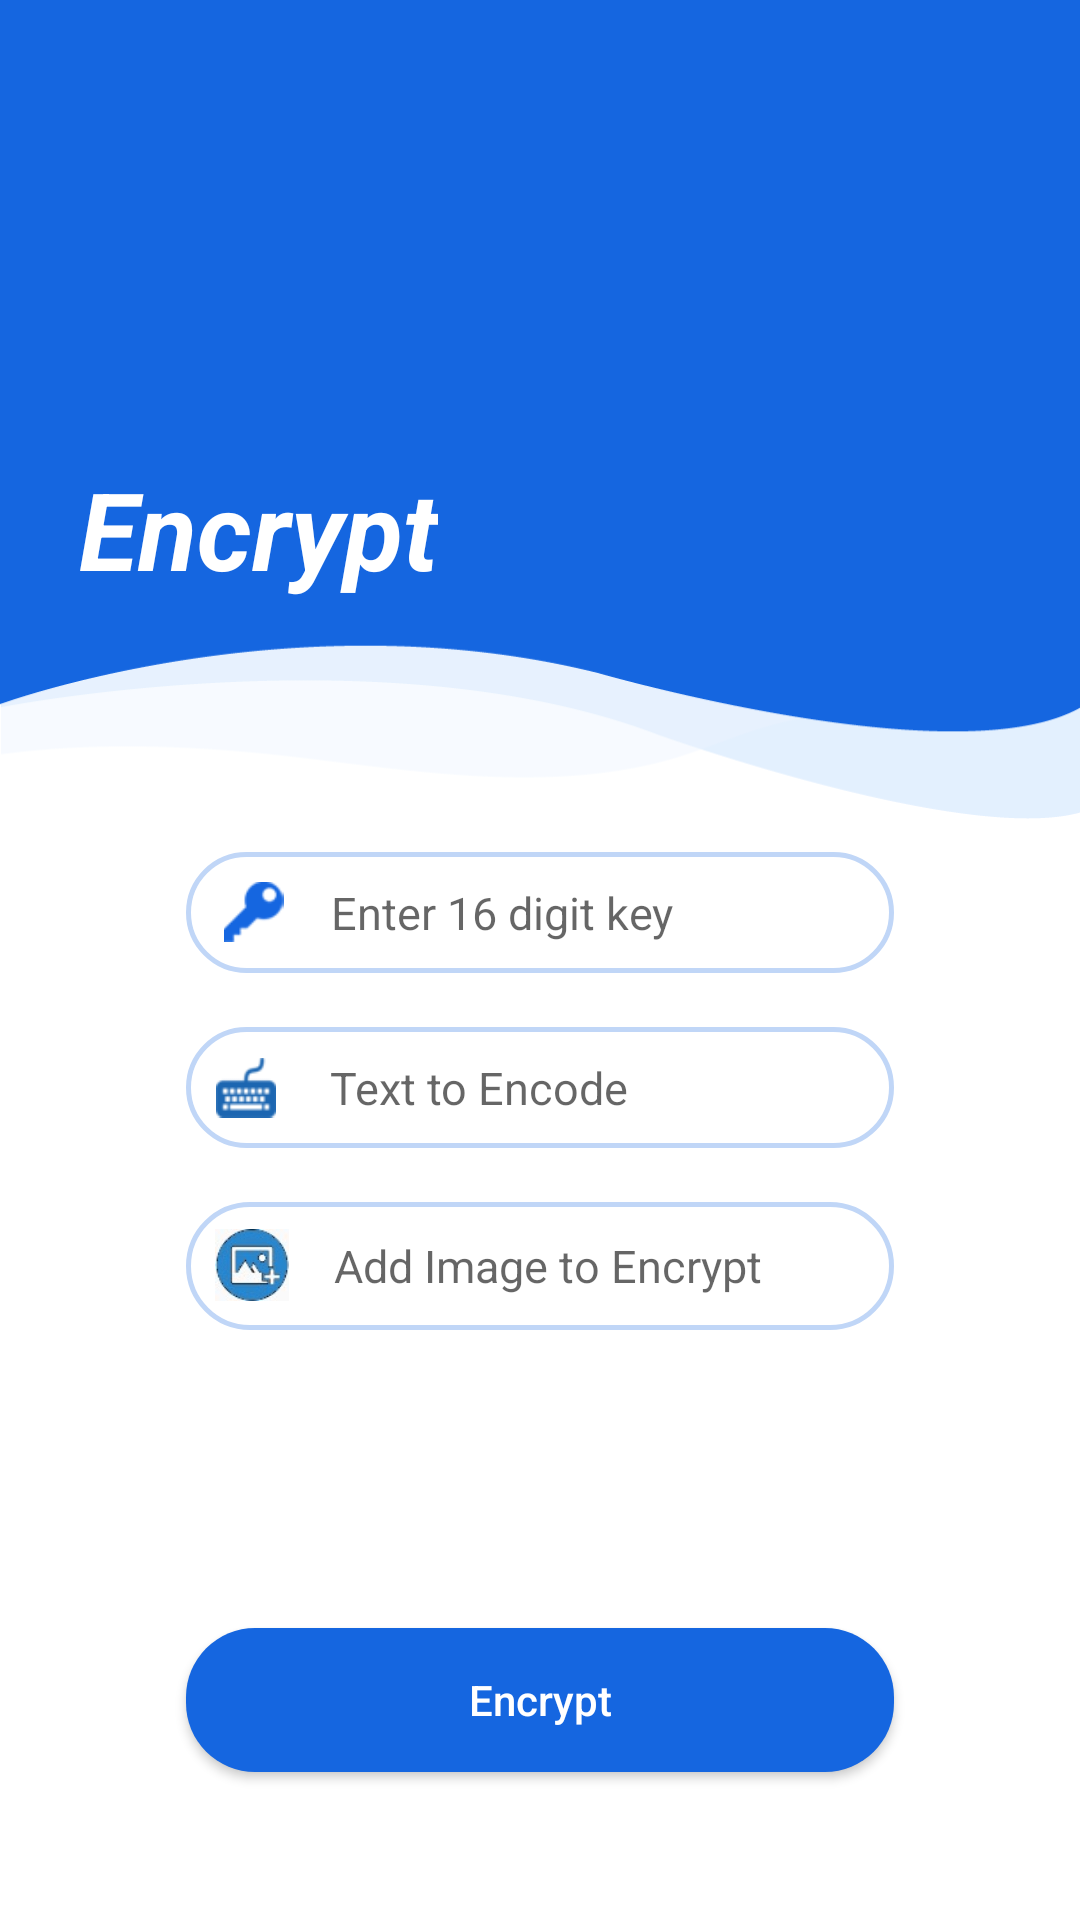

Where icons sit on this 1080 × 1920 app screen, as {"left": x1, "top": y1, "right": x2, "bottom": y2}:
imageedit: {"left": 215, "top": 1229, "right": 289, "bottom": 1301}
keyboard: {"left": 216, "top": 1058, "right": 276, "bottom": 1118}
keyimg: {"left": 224, "top": 882, "right": 284, "bottom": 942}
